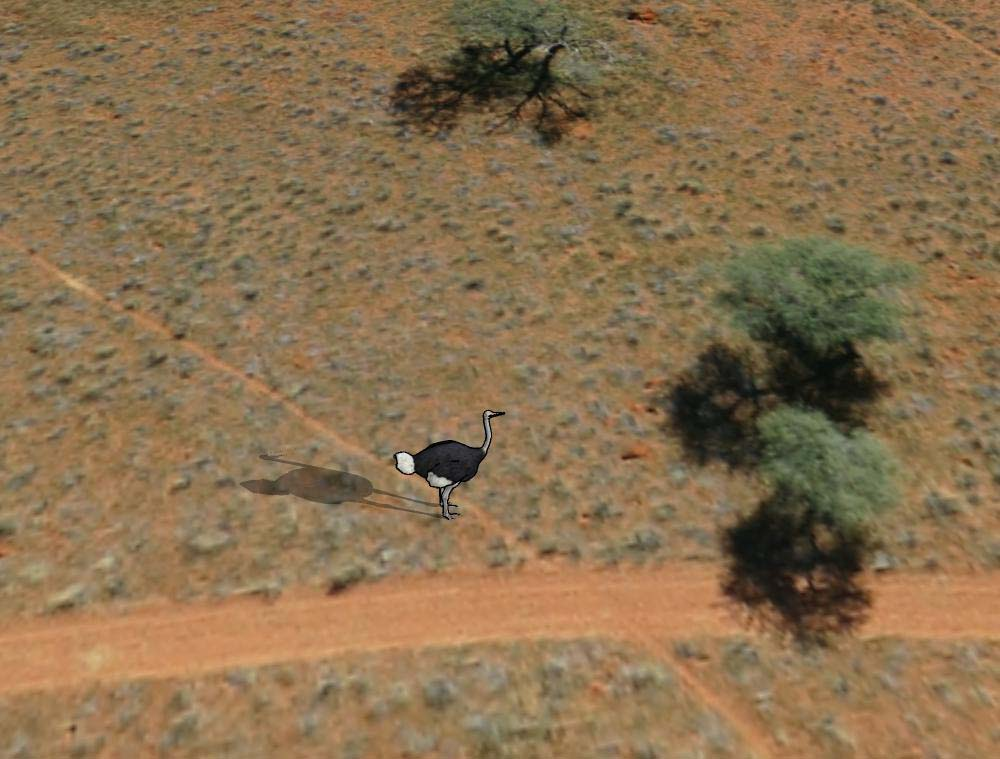ostrich: (390, 403, 513, 518)
